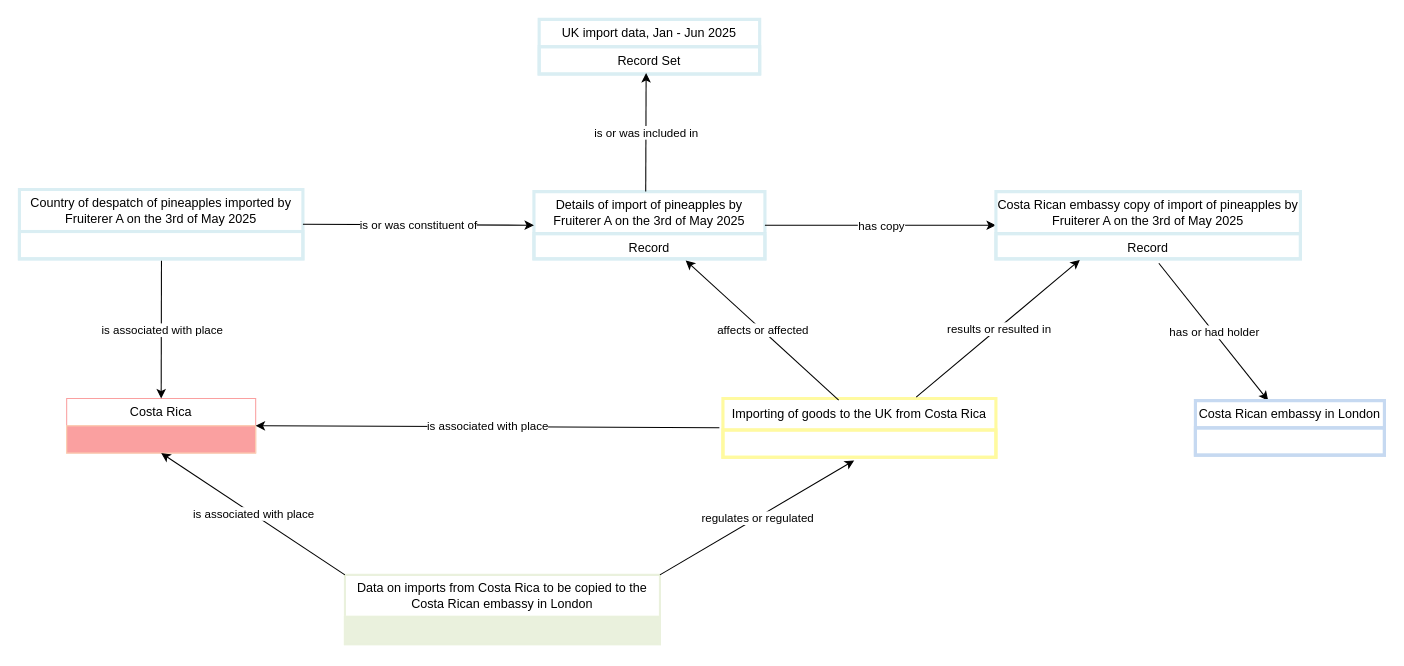
This 1404x666 diagram has some shape labels left out. The centre of each missing label's shape, as x and y in pixels:
"Activity" belongs at (x=859, y=443).
"Corporate Body" belongs at (x=1289, y=441).
"Place" belongs at (x=161, y=439).
"Record Part" belongs at (x=160, y=244).
"Rule" belongs at (x=501, y=630).
